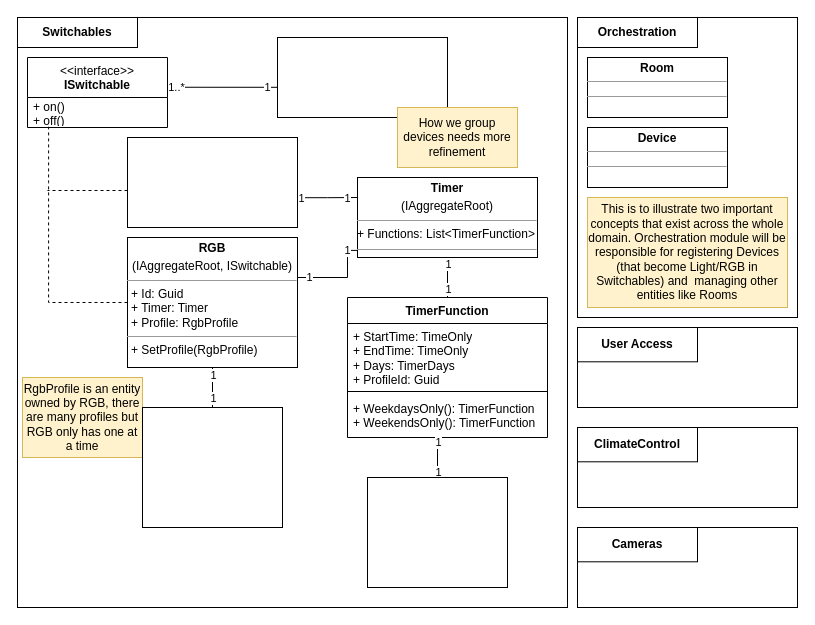
Image size: 815x625. Some labels were removed from this diagram. The shapes that lost their labels are listed below. From the top down, each one's centre as x and y in pixels, then its label:
At [362,77]: "Room (IAggregateRoot) + Devices: List<ISwitchable>".
At [212,182]: "Light (IAggregateRoot, ISwitchable) + Id: Guid + Timer: Timer + method(): Type".
At [212,467]: "RgbProfile (entity) + Id: Guid, + Red: short + Green: short + Blue: short".
At [437,532]: "TimerDays (ValueObject) + Monday: bool + ... + Sunday: bool".
